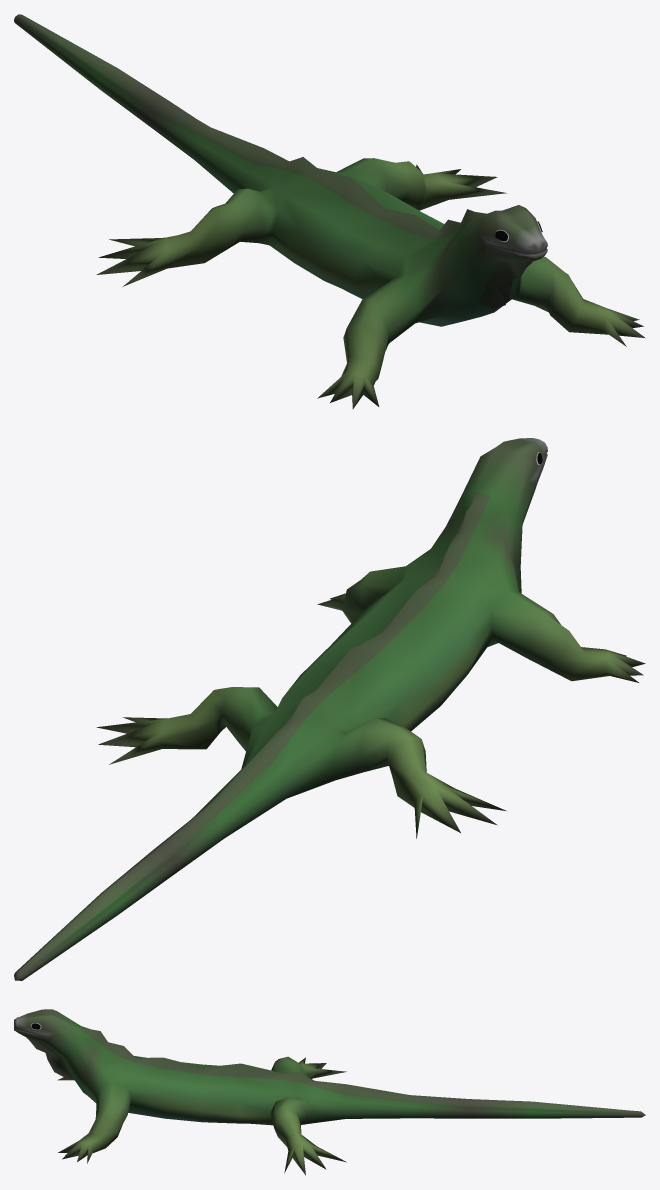
3 renders of one model, top to bottom at view 1: azimuth 30°, elevation 25°; view 2: azimuth 150°, elevation 25°; view 3: azimuth 270°, elevation 25°, orthographic. The views are drawn at different scales.
Visible parts, largest first — view 1: base.125; view 2: base.125; view 3: base.125.
Boxes of the visible parts, <box> form: base.125: <box>14,14,645,408</box>; base.125: <box>14,438,645,980</box>; base.125: <box>14,1009,645,1175</box>.
Size of the model in its own units: 0.2216 by 0.0914 by 0.5.
